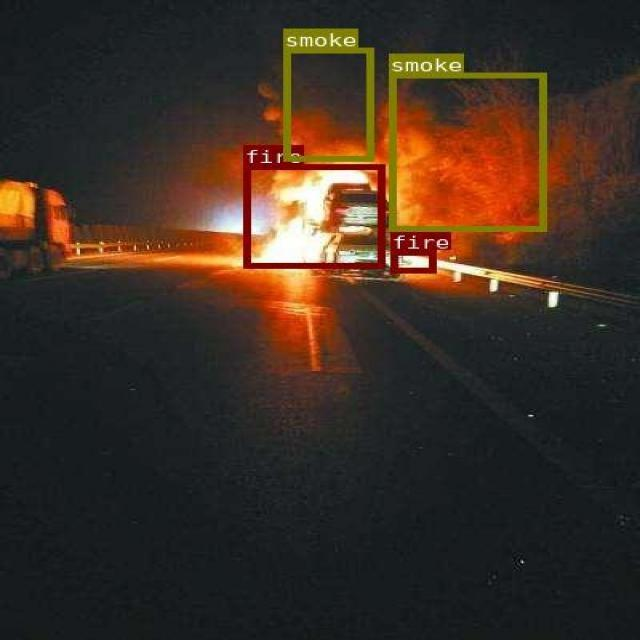fire: (243, 163, 384, 268), (390, 250, 434, 273)
smoke: (388, 72, 544, 231), (283, 47, 373, 160)
